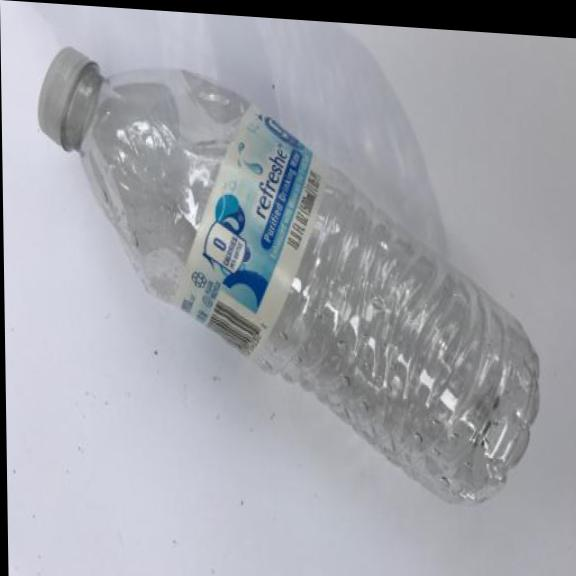Plastik: (28, 34, 547, 524)
